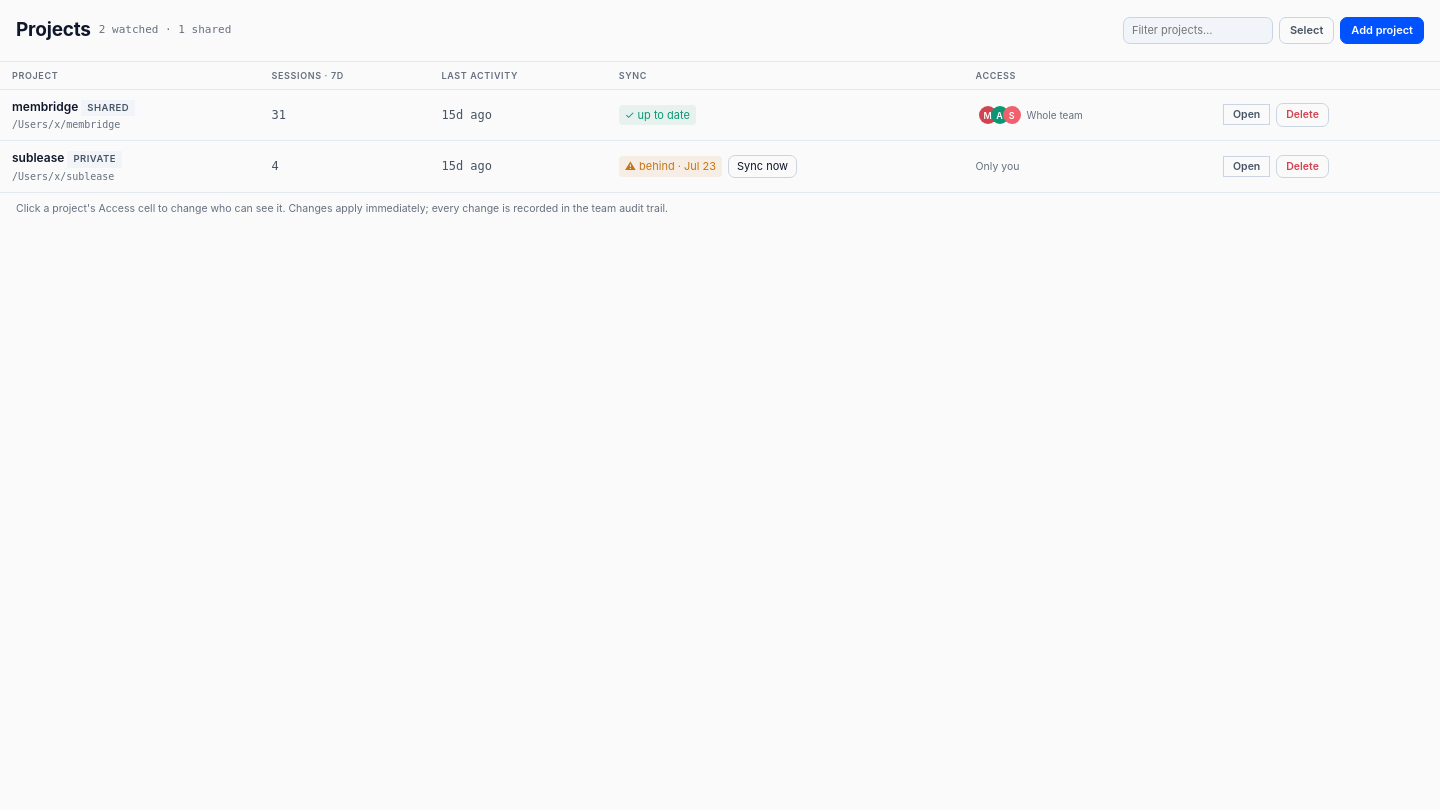
Test case: ProjectsPage › guards the viewer’s own row using the real viewerId, not a hardcoded placeholder
Step 1. Click the button with aria-label "access for membridge" → click(1034, 115), box [976,103,1092,127]
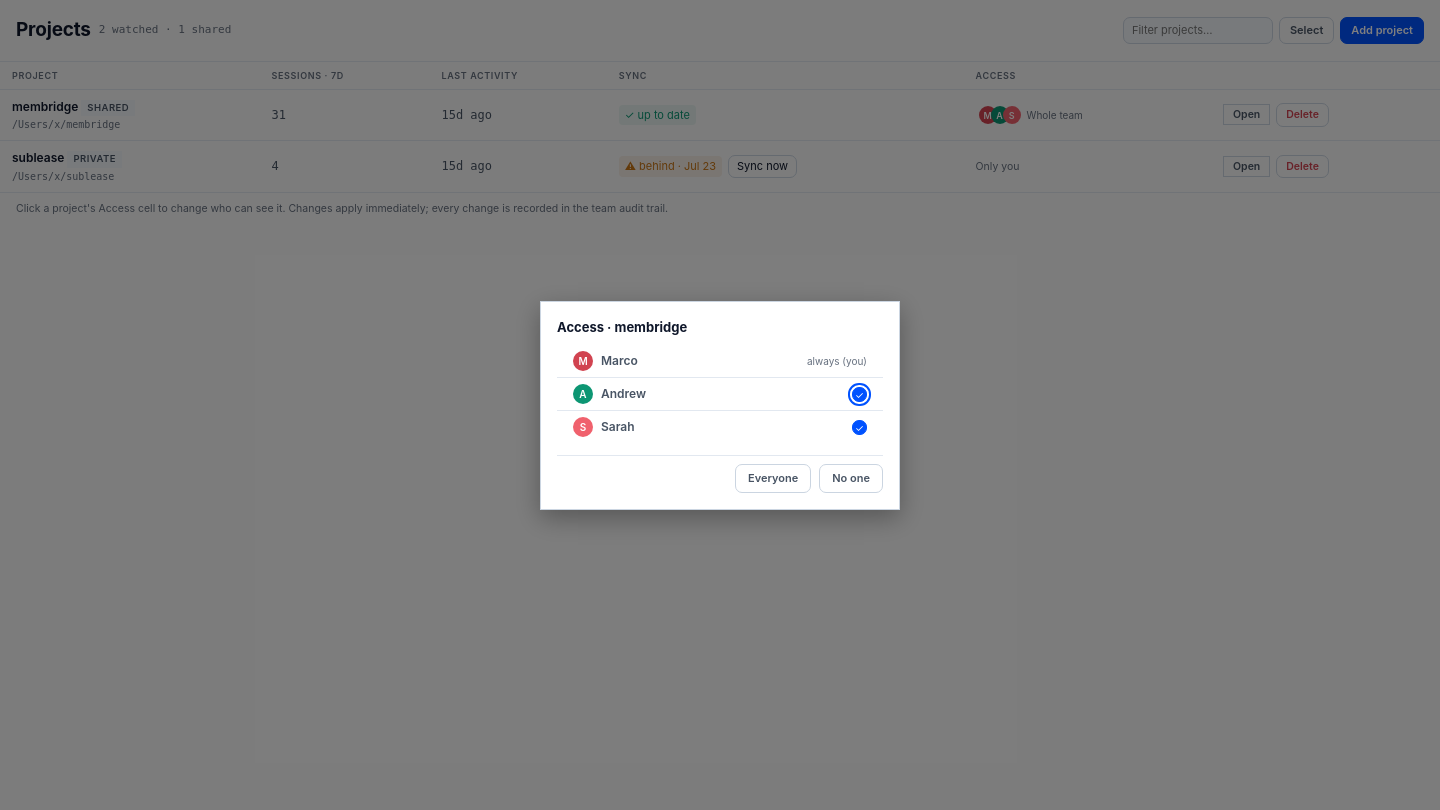
Expected: the text "Marco" is shown, [601,353,638,368]
Expected: the checkbox named "Sarah" is shown, [852,420,867,434]
